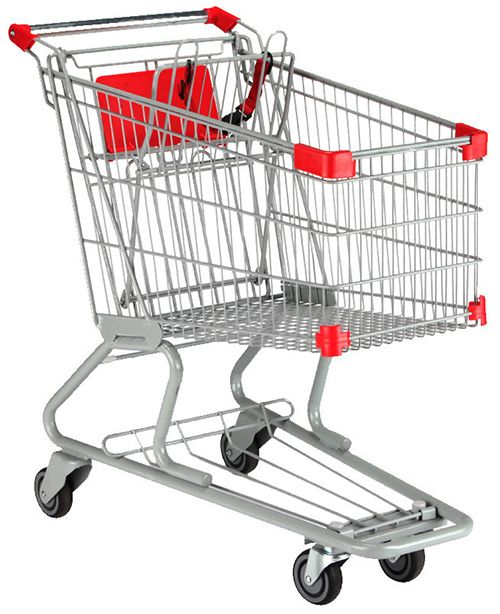with_basket: (11, 18, 488, 581)
